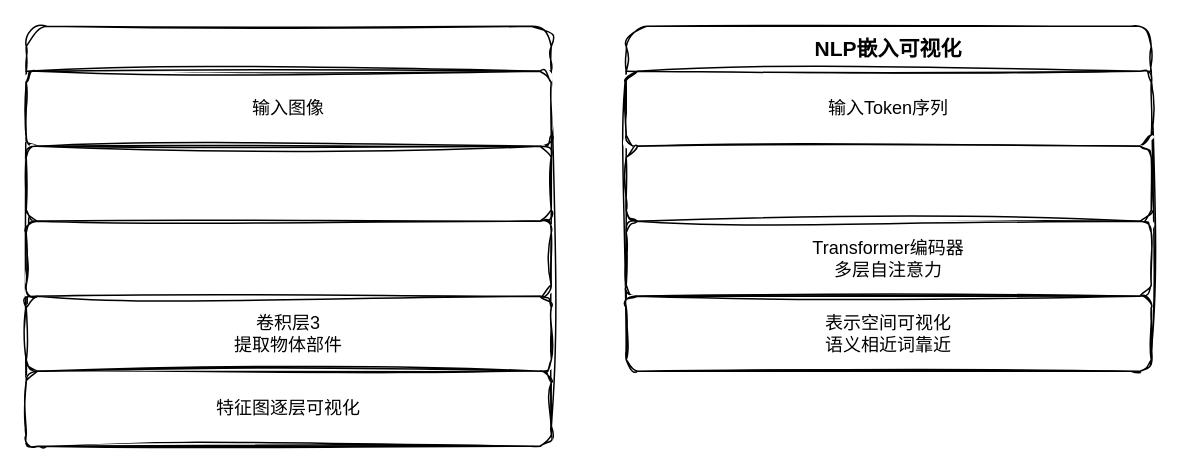
Some shapes in this 1178 by 473 pixel diagram are drawn without their labels. The box of each missing label's shape, as (x1, y1, x2, y2) in pixels:
CNN特征可视化: (25, 25, 551, 446)
卷积层1 提取边缘: (25, 145, 551, 221)
卷积层2 提取纹理: (25, 220, 551, 296)
词嵌入 Embedding: (625, 145, 1151, 221)
